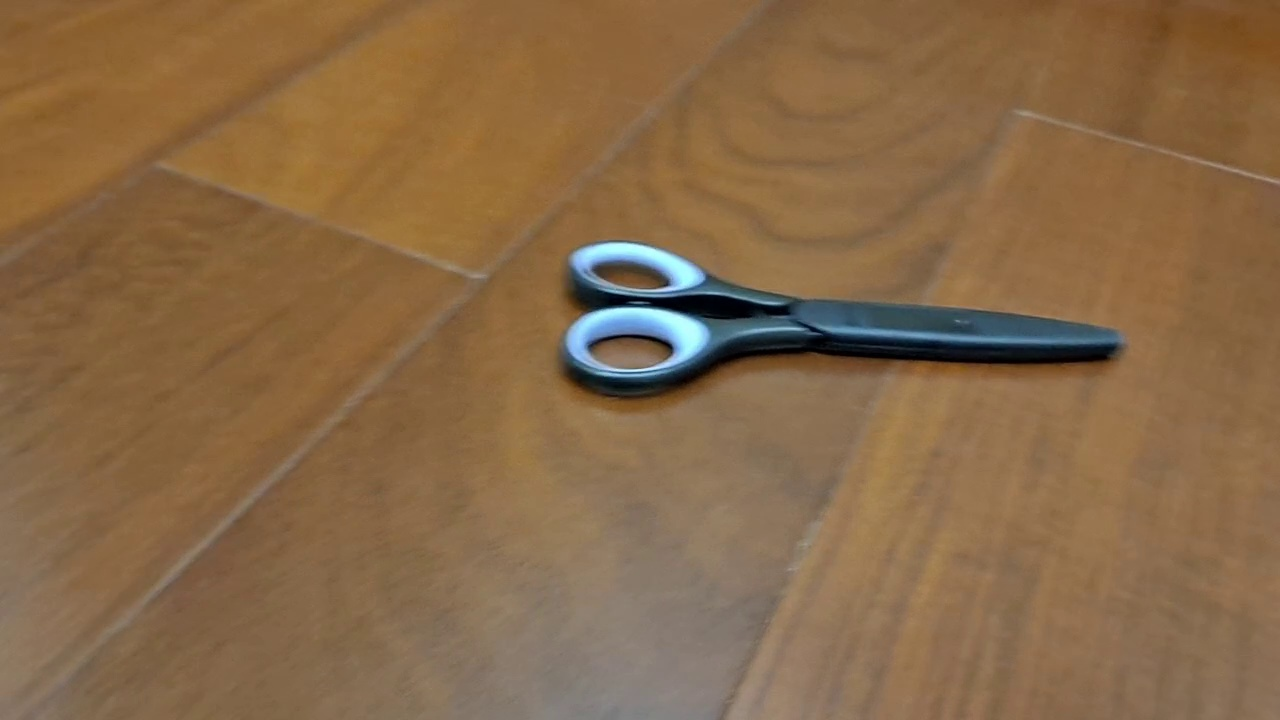scissors: (557, 238, 1127, 400)
